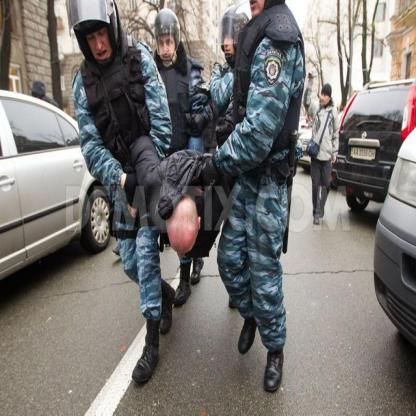face: (86, 24, 113, 62), (159, 29, 176, 62), (224, 23, 240, 58), (250, 1, 265, 18), (323, 90, 331, 105)
